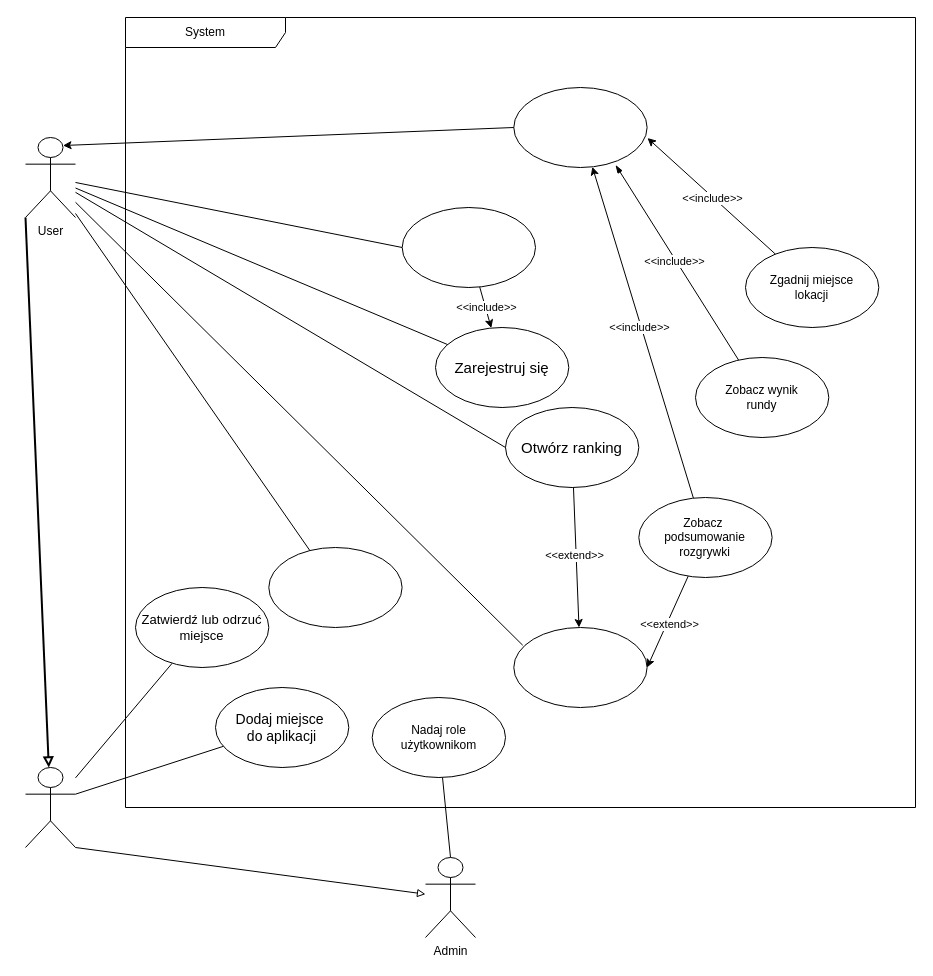
Image size: 933x976. Some labels were removed from this diagram. The shapes that lost their labels are listed below. From the top down, each one's centre as x and y in pixels, then its label:
point 580,127: Wybierz ustawienia i zacznij gre
point 468,247: Zaloguj się
point 335,587: Dodaj miejsce do zatwierdzenia
point 580,667: Otwórz profil
point 50,807: Moderator
